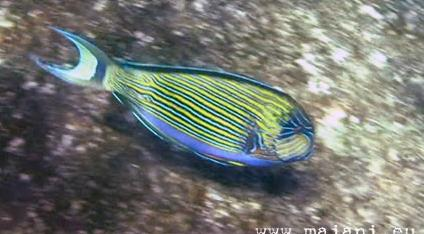Acanthuridae -Surgeonfishes-: (33, 16, 325, 174)
